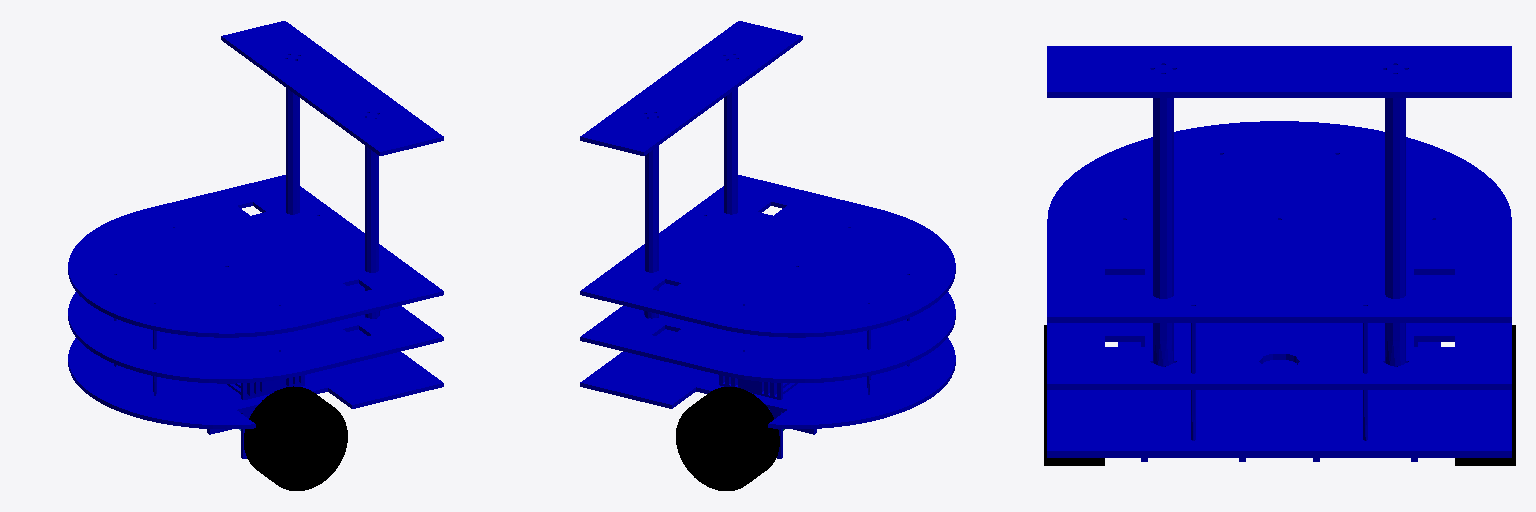
The robot description file, URDF, robot "pepper":
<?xml version="1.0"?>

<robot name="pepper">

  <material name="blue">
    <color rgba="0 0 0.8 1"/>
  </material>
  
  <material name="black">
    <color rgba="0 0 0 1"/>
  </material>
  
  <material name="white">
    <color rgba="1 1 1 1"/>
  </material>

  <link name="base_link">
    <visual>
      <origin rpy="1.5707963 0 1.5707963" xyz="-0.075 0 0"/>
      <geometry>
        <mesh filename="package://pepper/meshes/peppercad_binary.stl"  scale="0.001 0.001 0.001"/>
      </geometry>
      <material name="blue"/>
    </visual>
  </link>
  
  <link name="right_motor">
    <visual>
      <geometry>
        <cylinder length="0.105" radius="0.0285"/>
      </geometry>
      <origin rpy="0 1.57075 -1.57075" xyz="0 0 0"/>
    </visual>
  </link>
  <joint name="right_motor_joint" type="fixed">
    <parent link="base_link"/>
    <child link="right_motor"/>
    <origin rpy="0 0 0" xyz="0 -0.065 -0.03"/>
  </joint>

  <link name="left_motor">
    <visual>
      <geometry>
        <cylinder length="0.105" radius="0.0285"/>
      </geometry>
      <origin rpy="0 -1.57075 1.57075" xyz="0 0 0"/>
    </visual>
  </link>
  <joint name="left_motor_joint" type="fixed">
    <parent link="base_link"/>
    <child link="left_motor"/>
    <origin rpy="0 0 0" xyz="0 0.065 -0.03"/>
  </joint>

  <link name="left_motor_shaft">
    <visual>
      <geometry>
        <cylinder length="0.03" radius="0.003"/>
      </geometry>
      <material name= "white"/>
      <origin rpy="0 1.57075 1.57075" xyz="0 0 0"/>
    </visual>
  </link>
  <joint name="left_motor_shaft_joint" type="fixed">
    <parent link="left_motor"/>
    <child link="left_motor_shaft"/>
    <origin rpy="0 0 0" xyz="0 0.055 0"/>
  </joint>  

  <link name="right_motor_shaft">
    <visual>
      <geometry>
        <cylinder length="0.03" radius="0.003"/>
      </geometry>
      <material name= "white"/>
      <origin rpy="0 1.57075 1.57075" xyz="0 0 0"/>
    </visual>
  </link>
  <joint name="right_motor_shaft_joint" type="fixed">
    <parent link="right_motor"/>
    <child link="right_motor_shaft"/>
    <origin rpy="0 0 0" xyz="0 -0.055 0"/>
  </joint>

  <link name="left_wheel">
    <visual>
      <geometry>
        <cylinder length="0.045" radius="0.0525"/>
      </geometry>
      <material name= "black"/>
      <origin rpy="0 1.57075 1.57075" xyz="0.0325 0.0325 0"/>
    </visual>
  </link>
  <joint name="left_wheel_link" type="continuous">
    <parent link="left_motor_shaft"/>
    <child link="left_wheel"/>
    <origin rpy="0 0 0" xyz="-0.0325 0 0"/>
  </joint>

  <link name="right_wheel">
    <visual>
      <geometry>
        <cylinder length="0.045" radius="0.0525"/>
      </geometry>
      <material name= "black"/>
      <origin rpy="0 1.57075 1.57075" xyz="-0.0325 -0.0325 0"/>
    </visual>
  </link>
  <joint name="right_wheel_link" type="continuous">
    <parent link="right_motor_shaft"/>
    <child link="right_wheel"/>
    <origin rpy="0 0 0" xyz="0.0325 0 0"/>
  </joint>

  <link name="camera_link">
    <visual>
      <origin rpy="0 0 0" xyz="0 0 0"/>
      <geometry>
        <mesh filename="package://pepper/meshes/kinect.dae"  scale="0.001 0.001 0.001"/>
      </geometry>
      <material name="blue"/>
    </visual>
  </link>
    <joint name="kinect_link" type="fixed">
    <parent link="base_link"/>
    <child link="camera_link"/>
    <origin rpy="0 0 0" xyz="0.16 0 0.355"/>
  </joint> -->
</robot>

--- Facts derived from the render (not from the file) ---
The picture shows the robot from 3 angles, left to right: view 1: azimuth 30°, elevation 25°; view 2: azimuth 150°, elevation 25°; view 3: azimuth 270°, elevation 25°; orthographic projection.
Robot: pepper — 8 links, 7 joints (2 continuous, 5 fixed); root link base_link; default pose: every joint at zero.
Links seen in each view (by area): view 1: base_link, right_wheel; view 2: base_link, left_wheel; view 3: base_link, left_wheel, right_wheel.
Link boxes in pixels (left/top/right/bottom): base_link: left=68, top=21, right=443, bottom=458; right_wheel: left=244, top=386, right=347, bottom=490; base_link: left=580, top=21, right=955, bottom=458; left_wheel: left=676, top=387, right=779, bottom=490; base_link: left=1047, top=46, right=1511, bottom=461; left_wheel: left=1455, top=325, right=1515, bottom=465; right_wheel: left=1044, top=325, right=1104, bottom=465.
Size in the robot's own frame: 0.345 by 0.35 by 0.3825 metres.
Meshes: 2 distinct files referenced, 1 mesh visuals loaded (1 binary STL); not drawn: 1 (reference not matched to a file when rendering).